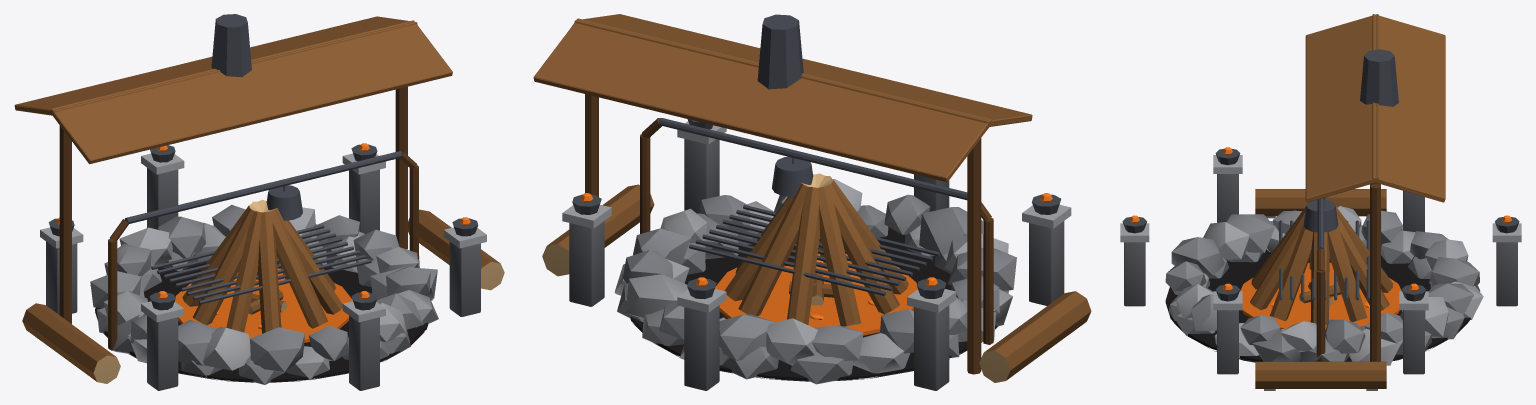
The model's file is campfire_5.glb.
3 views of the same model, side by side, from view 1: azimuth 30°, elevation 25°; view 2: azimuth 150°, elevation 25°; view 3: azimuth 270°, elevation 25° (orthographic). The views are drawn at different scales.
Visible parts, largest first — view 1: campfire_5, campfire_5_craft; view 2: campfire_5, campfire_5_craft; view 3: campfire_5, campfire_5_craft.
Part boxes in pixels (left/top/right/bottom): campfire_5: left=22, top=143, right=504, bottom=390; campfire_5_craft: left=14, top=14, right=452, bottom=328; campfire_5: left=542, top=118, right=1091, bottom=390; campfire_5_craft: left=533, top=14, right=1032, bottom=374; campfire_5: left=1120, top=147, right=1521, bottom=390; campfire_5_craft: left=1271, top=14, right=1445, bottom=361.
Bounding box in the file's own units: 6 × 3.75 × 5.5.
